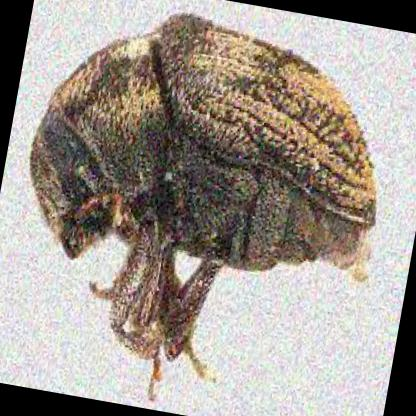ash weevil: (29, 13, 372, 364)
